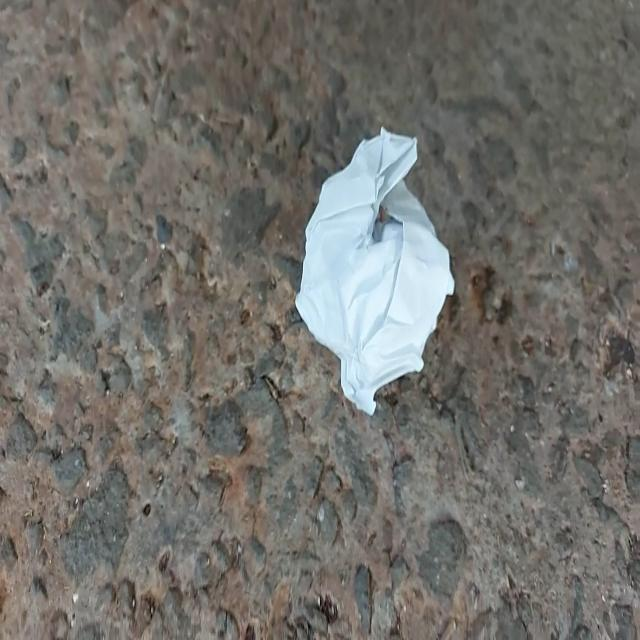Paper: (278, 90, 464, 429)
